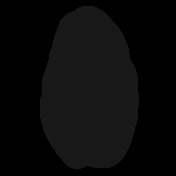fp: (37, 1, 142, 170)
